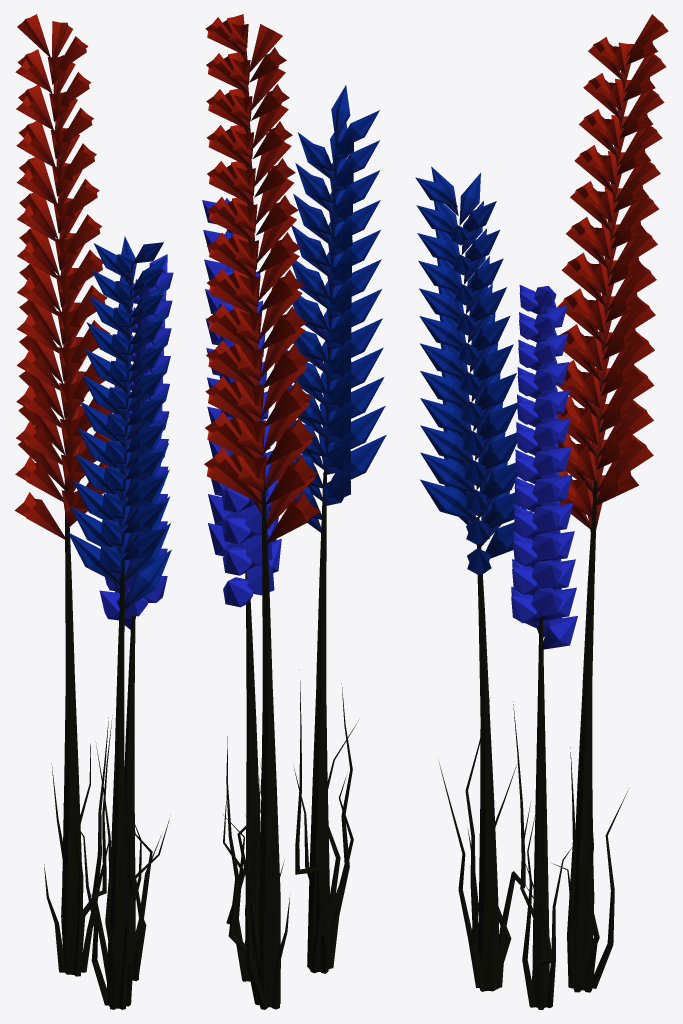
Rendered from Plant-M-6.fbx.
3 views of the same model, side by side, from view 1: azimuth 30°, elevation 25°; view 2: azimuth 150°, elevation 25°; view 3: azimuth 270°, elevation 25° (orthographic). The views are drawn at different scales.
Visible parts, largest first — view 1: OUT-Plant; view 2: OUT-Plant; view 3: OUT-Plant.
Boxes of the visible parts, x1,y1,x2,y2 form: OUT-Plant: [14, 14, 173, 1009]; OUT-Plant: [202, 14, 386, 1009]; OUT-Plant: [415, 14, 668, 1009].
Size of the model in its own units: 0.144 by 1.02 by 0.2432.
